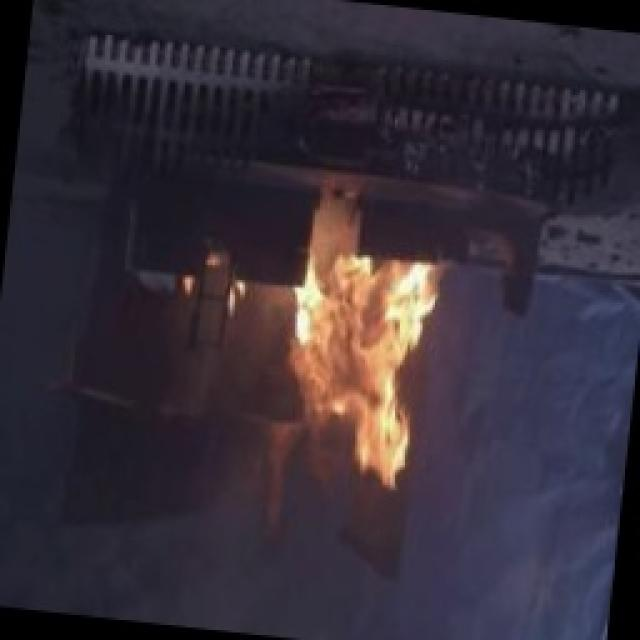fire: (263, 226, 455, 512)
